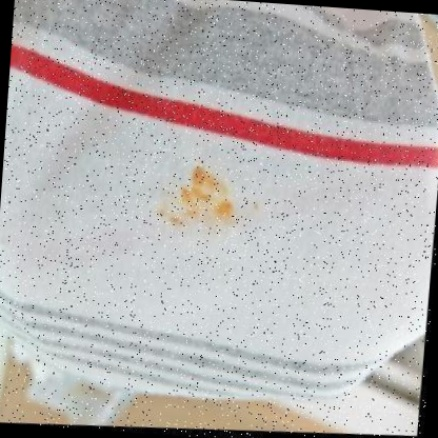kimchi: (151, 168, 240, 236)
